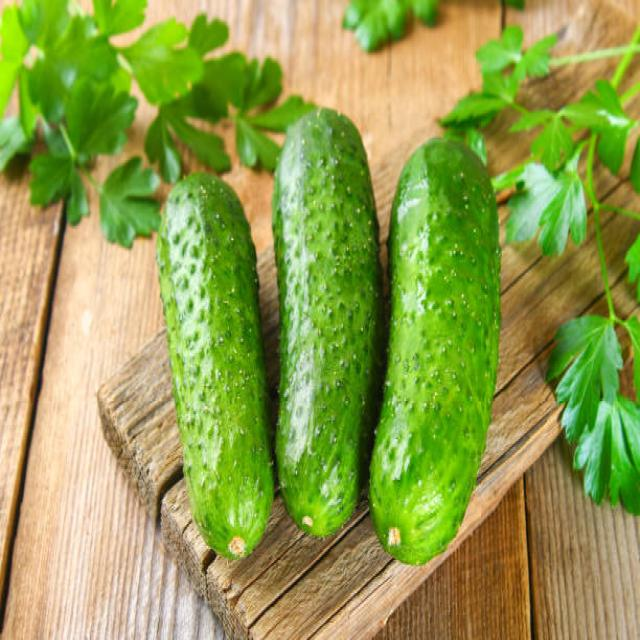cucumber: (371, 134, 502, 566), (273, 108, 384, 537), (155, 171, 276, 562)
